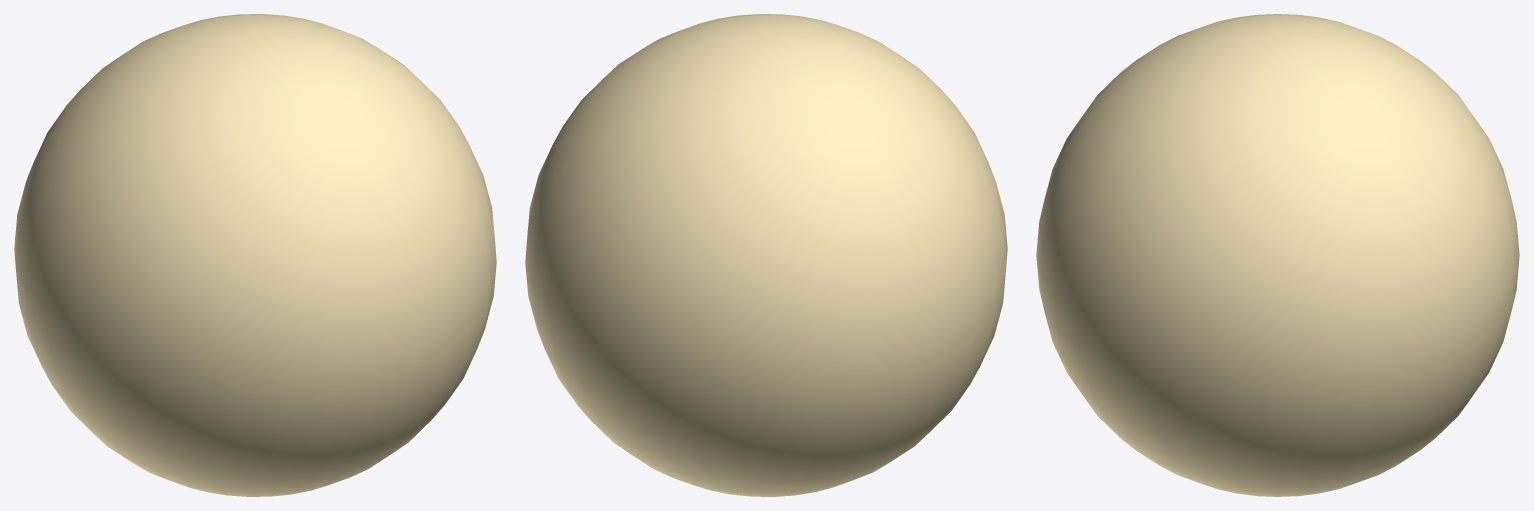
The model's file is sun.glb.
3 views of the same model, side by side, from view 1: azimuth 30°, elevation 25°; view 2: azimuth 150°, elevation 25°; view 3: azimuth 270°, elevation 25° (orthographic).
Visible parts, largest first — view 1: corona; view 2: corona; view 3: corona.
Boxes of the visible parts, box(x1,y1,x2,y2) form: corona: box(14, 14, 496, 496); corona: box(525, 14, 1007, 496); corona: box(1036, 14, 1519, 496).
Size of the model in its own units: 1.15 by 1.15 by 1.15.
